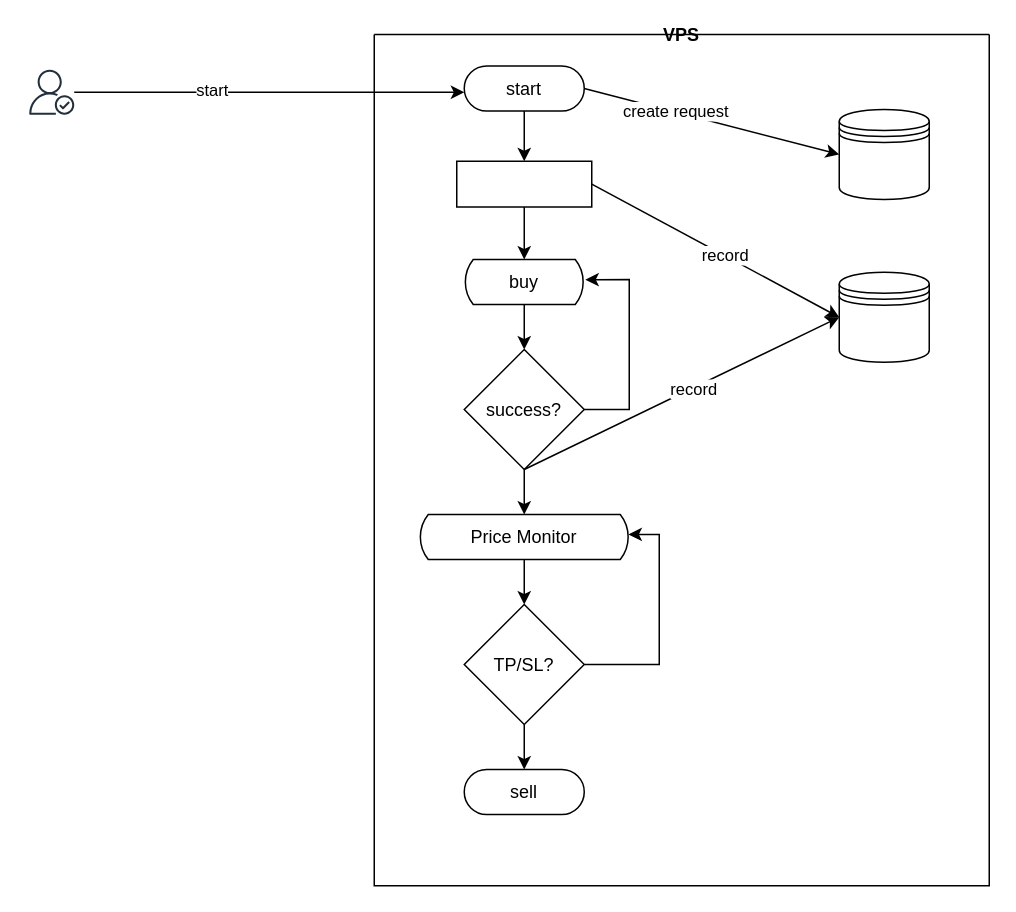
This 1016x912 diagram has some shape labels left out. Here are the shapes that lost their labels. From the top down, the centre of each, then its label:
point (51, 91): user A
point (883, 154): user model
point (523, 183): create snipe
point (883, 316): snipe model
